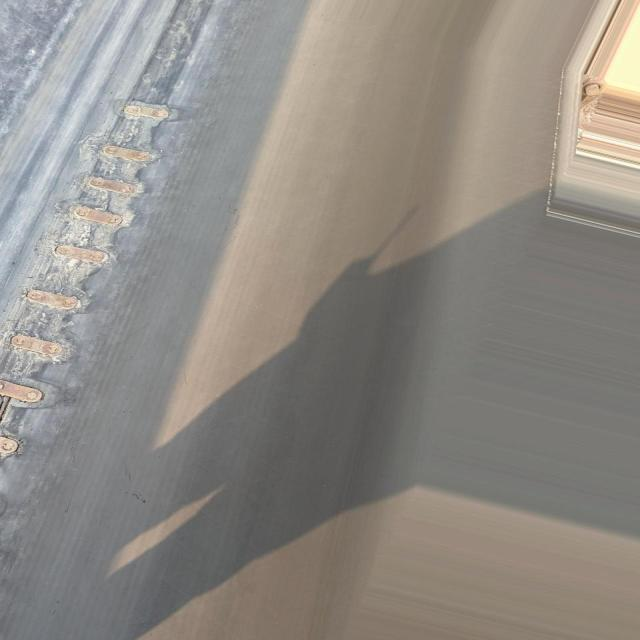patch work: (0, 48, 209, 528)
